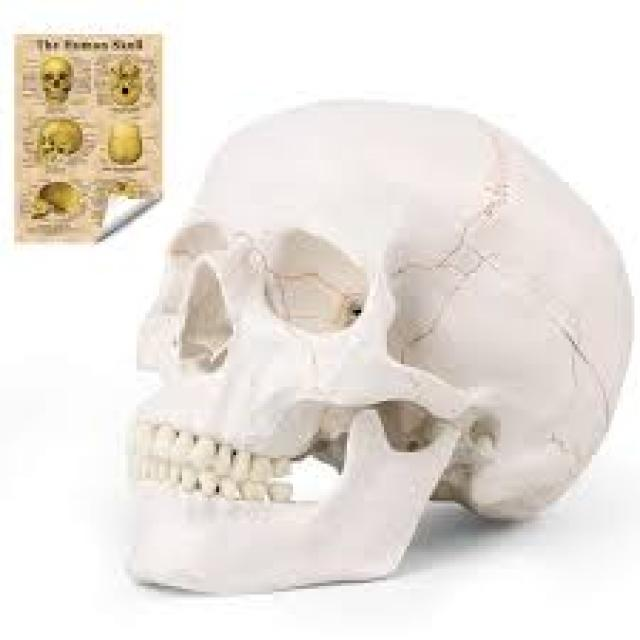skull: (123, 83, 638, 621)
